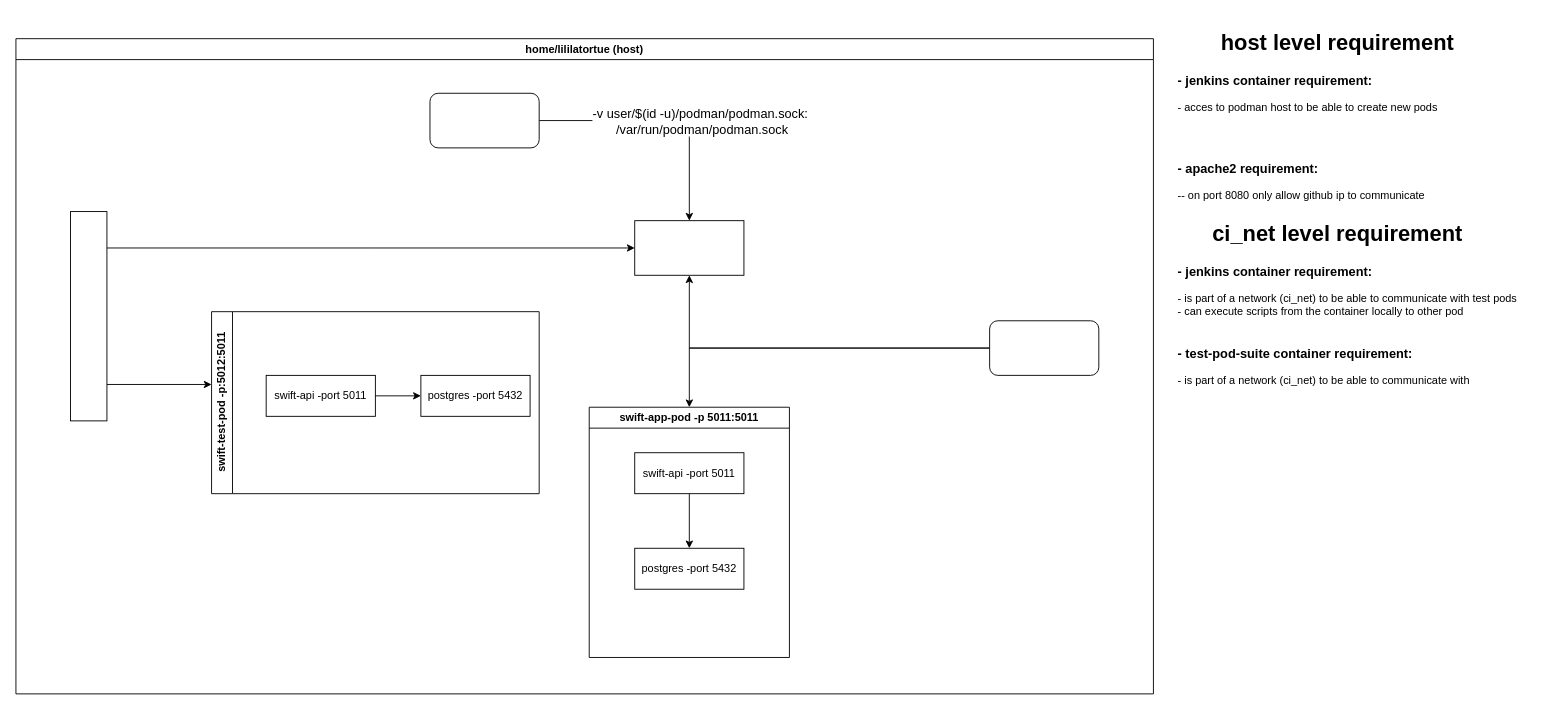
Some shapes in this 1552 by 710 pixel diagram are drawn without their labels. Here are the shapes that lost their labels. From the top down, the centre of each, then its label:
At (484,120): "podman".
At (689,247): "jenkins 8080:8080".
At (88,316): "ci_net".
At (1044,347): "apache2".
